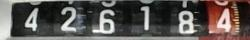digits: (178, 11, 196, 35), (60, 6, 76, 31), (216, 8, 232, 33), (100, 9, 115, 33), (24, 7, 38, 30), (139, 5, 151, 31)
